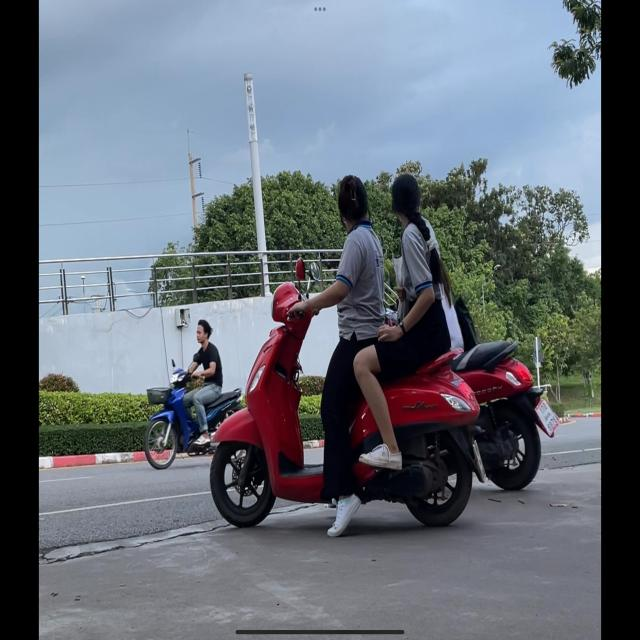seatbelt: (336, 173, 372, 231), (390, 170, 422, 224), (196, 318, 213, 344)
